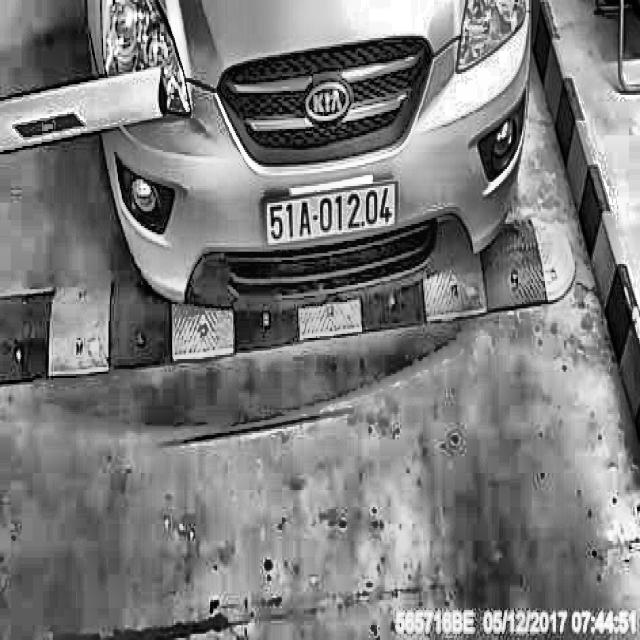plate: (262, 172, 400, 252)
